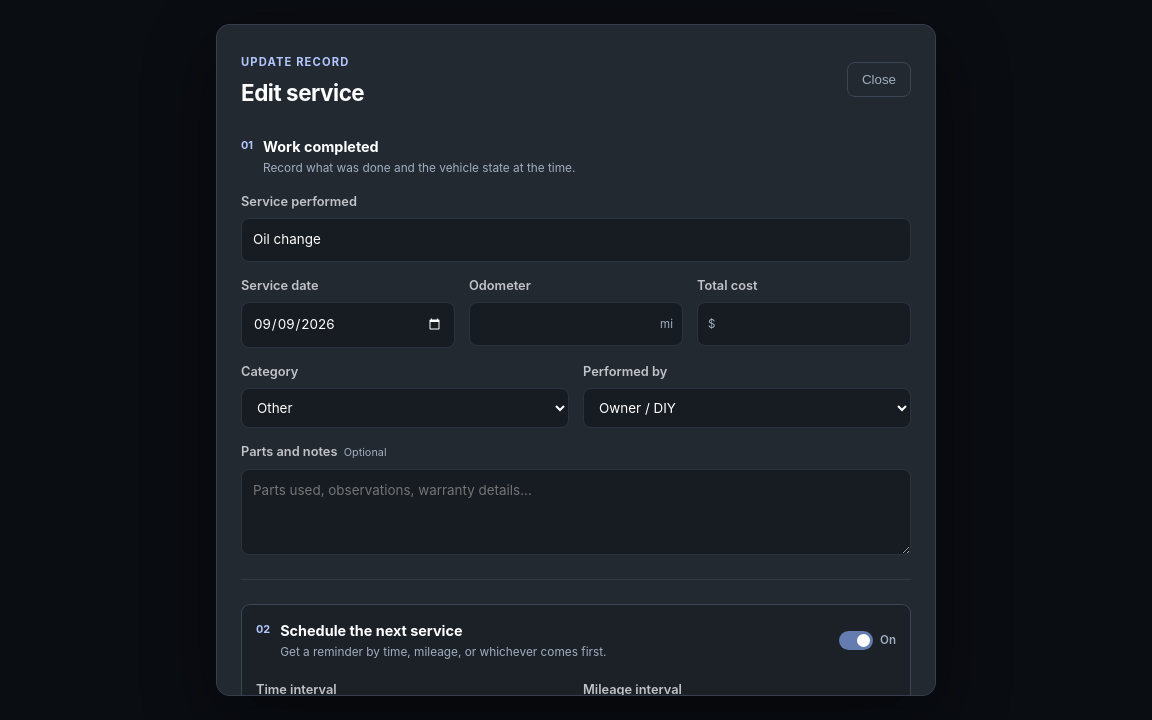
oil defaults › never fetches defaults while editing an existing oil log
Replace the text in the field with id "work_done" with "Brakes": (576, 240) [241, 218, 911, 262]
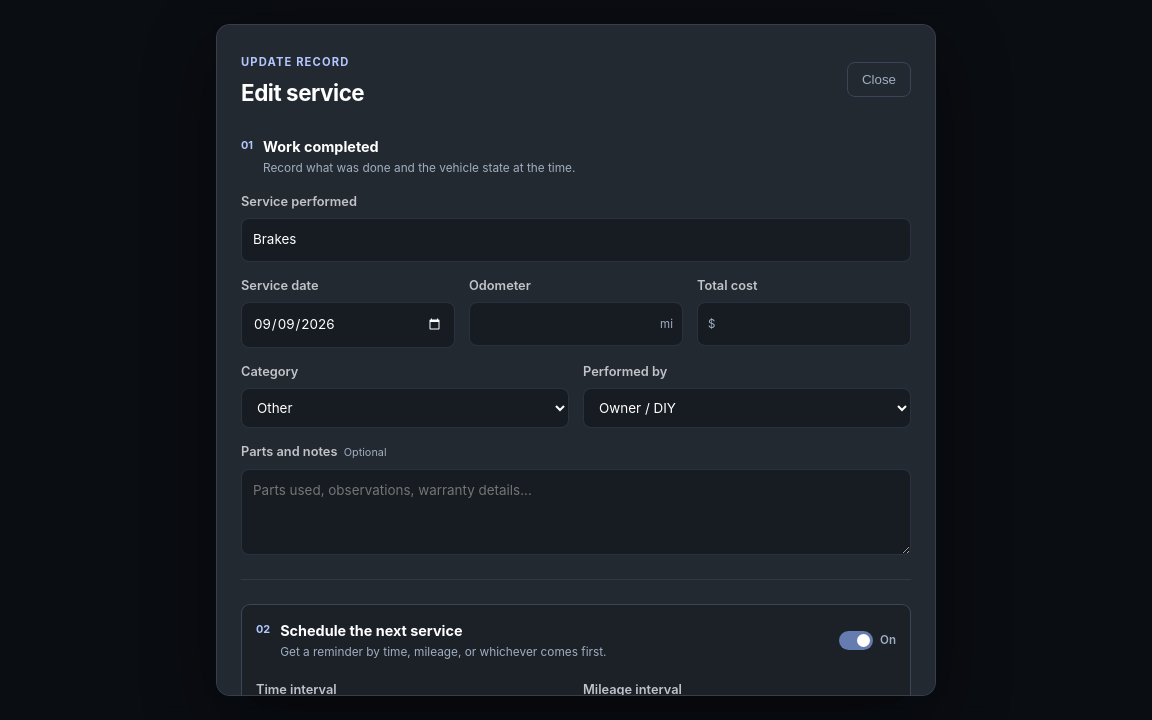
Replace the text in the field with id "work_done" with "Oil change": (576, 240) [241, 218, 911, 262]
(page scrolled)
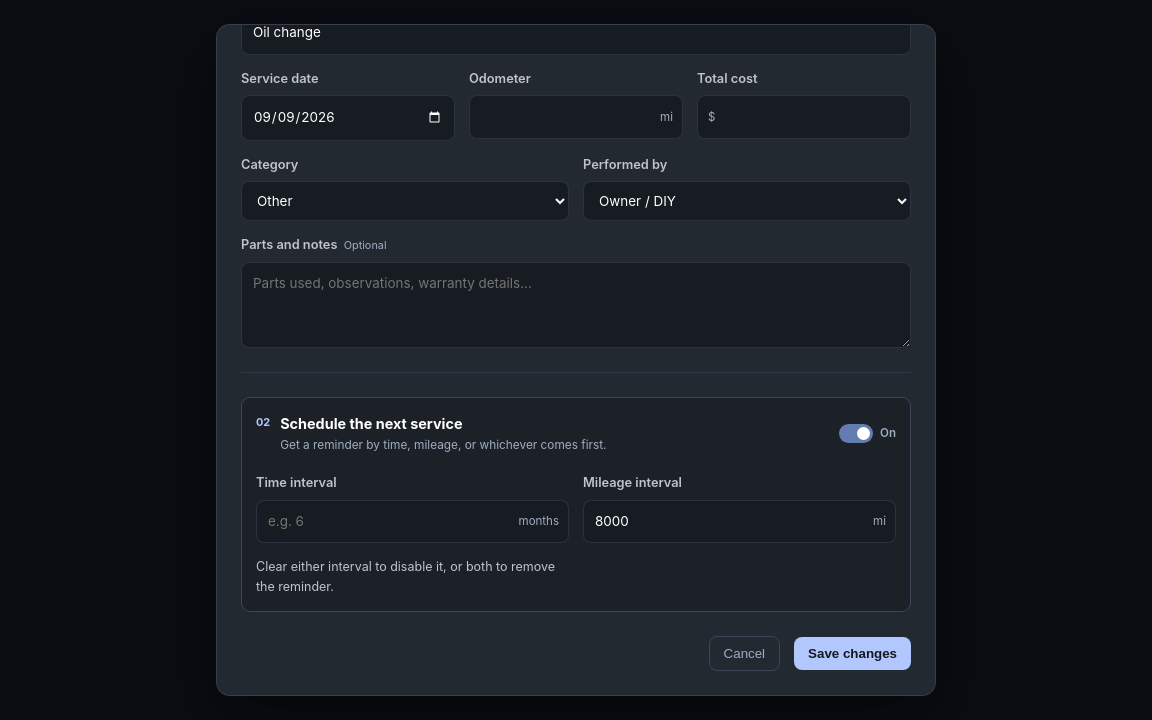
Now the field with id "interval_miles" holds "8000", box [583, 500, 896, 543]
